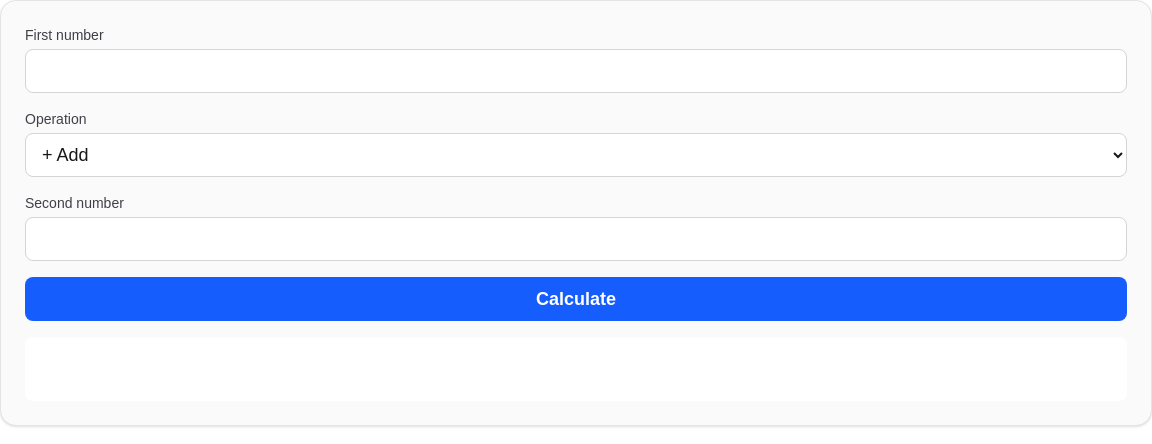
Test case: Calculator error handling › backend down shows the backend_unavailable message
In the field labelled "First number": [576, 71] box [25,49,1127,93], type "2"
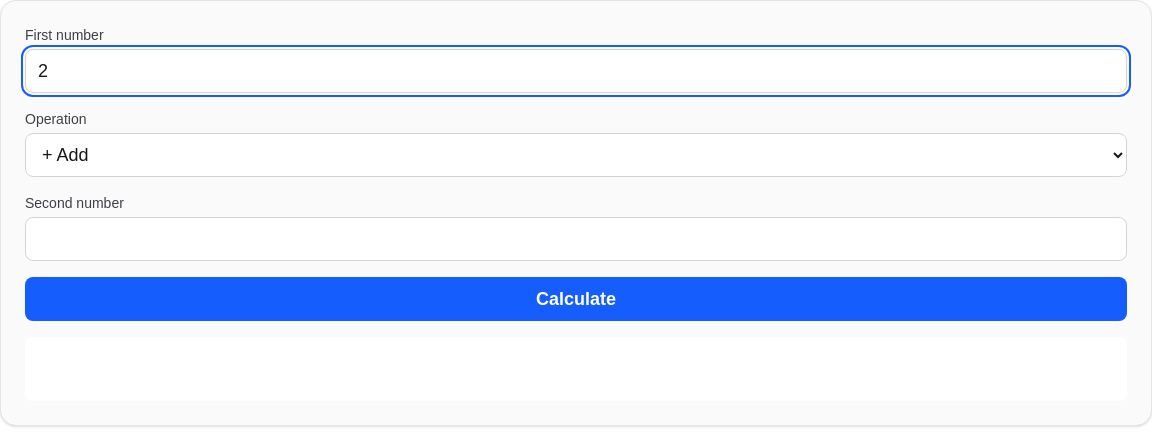
In the field labelled "Second number": [576, 239] box [25,217,1127,261], type "3"
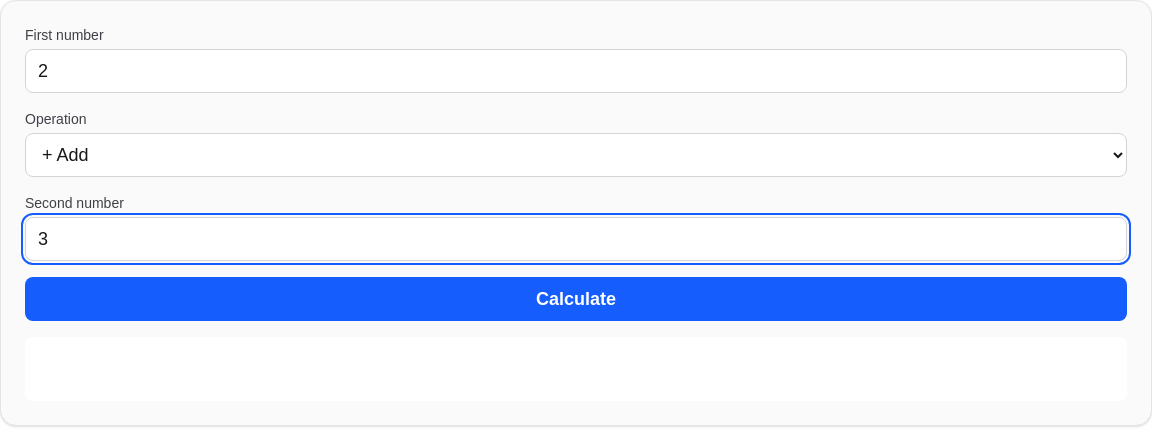
Click the button "Calculate": [576, 299] box [25,277,1127,321]
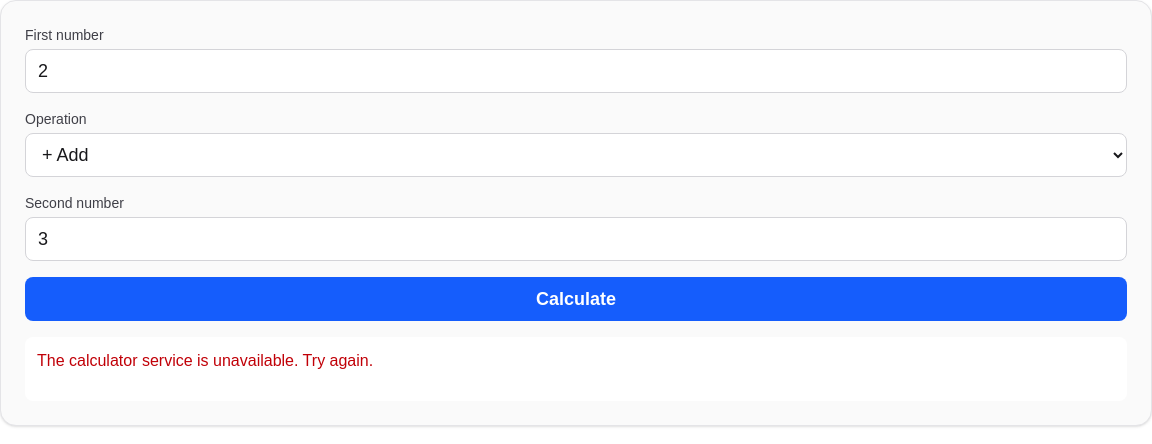
Expected: the message reads "The calculator service is unavailable. Try again.", [37,352,373,369]
